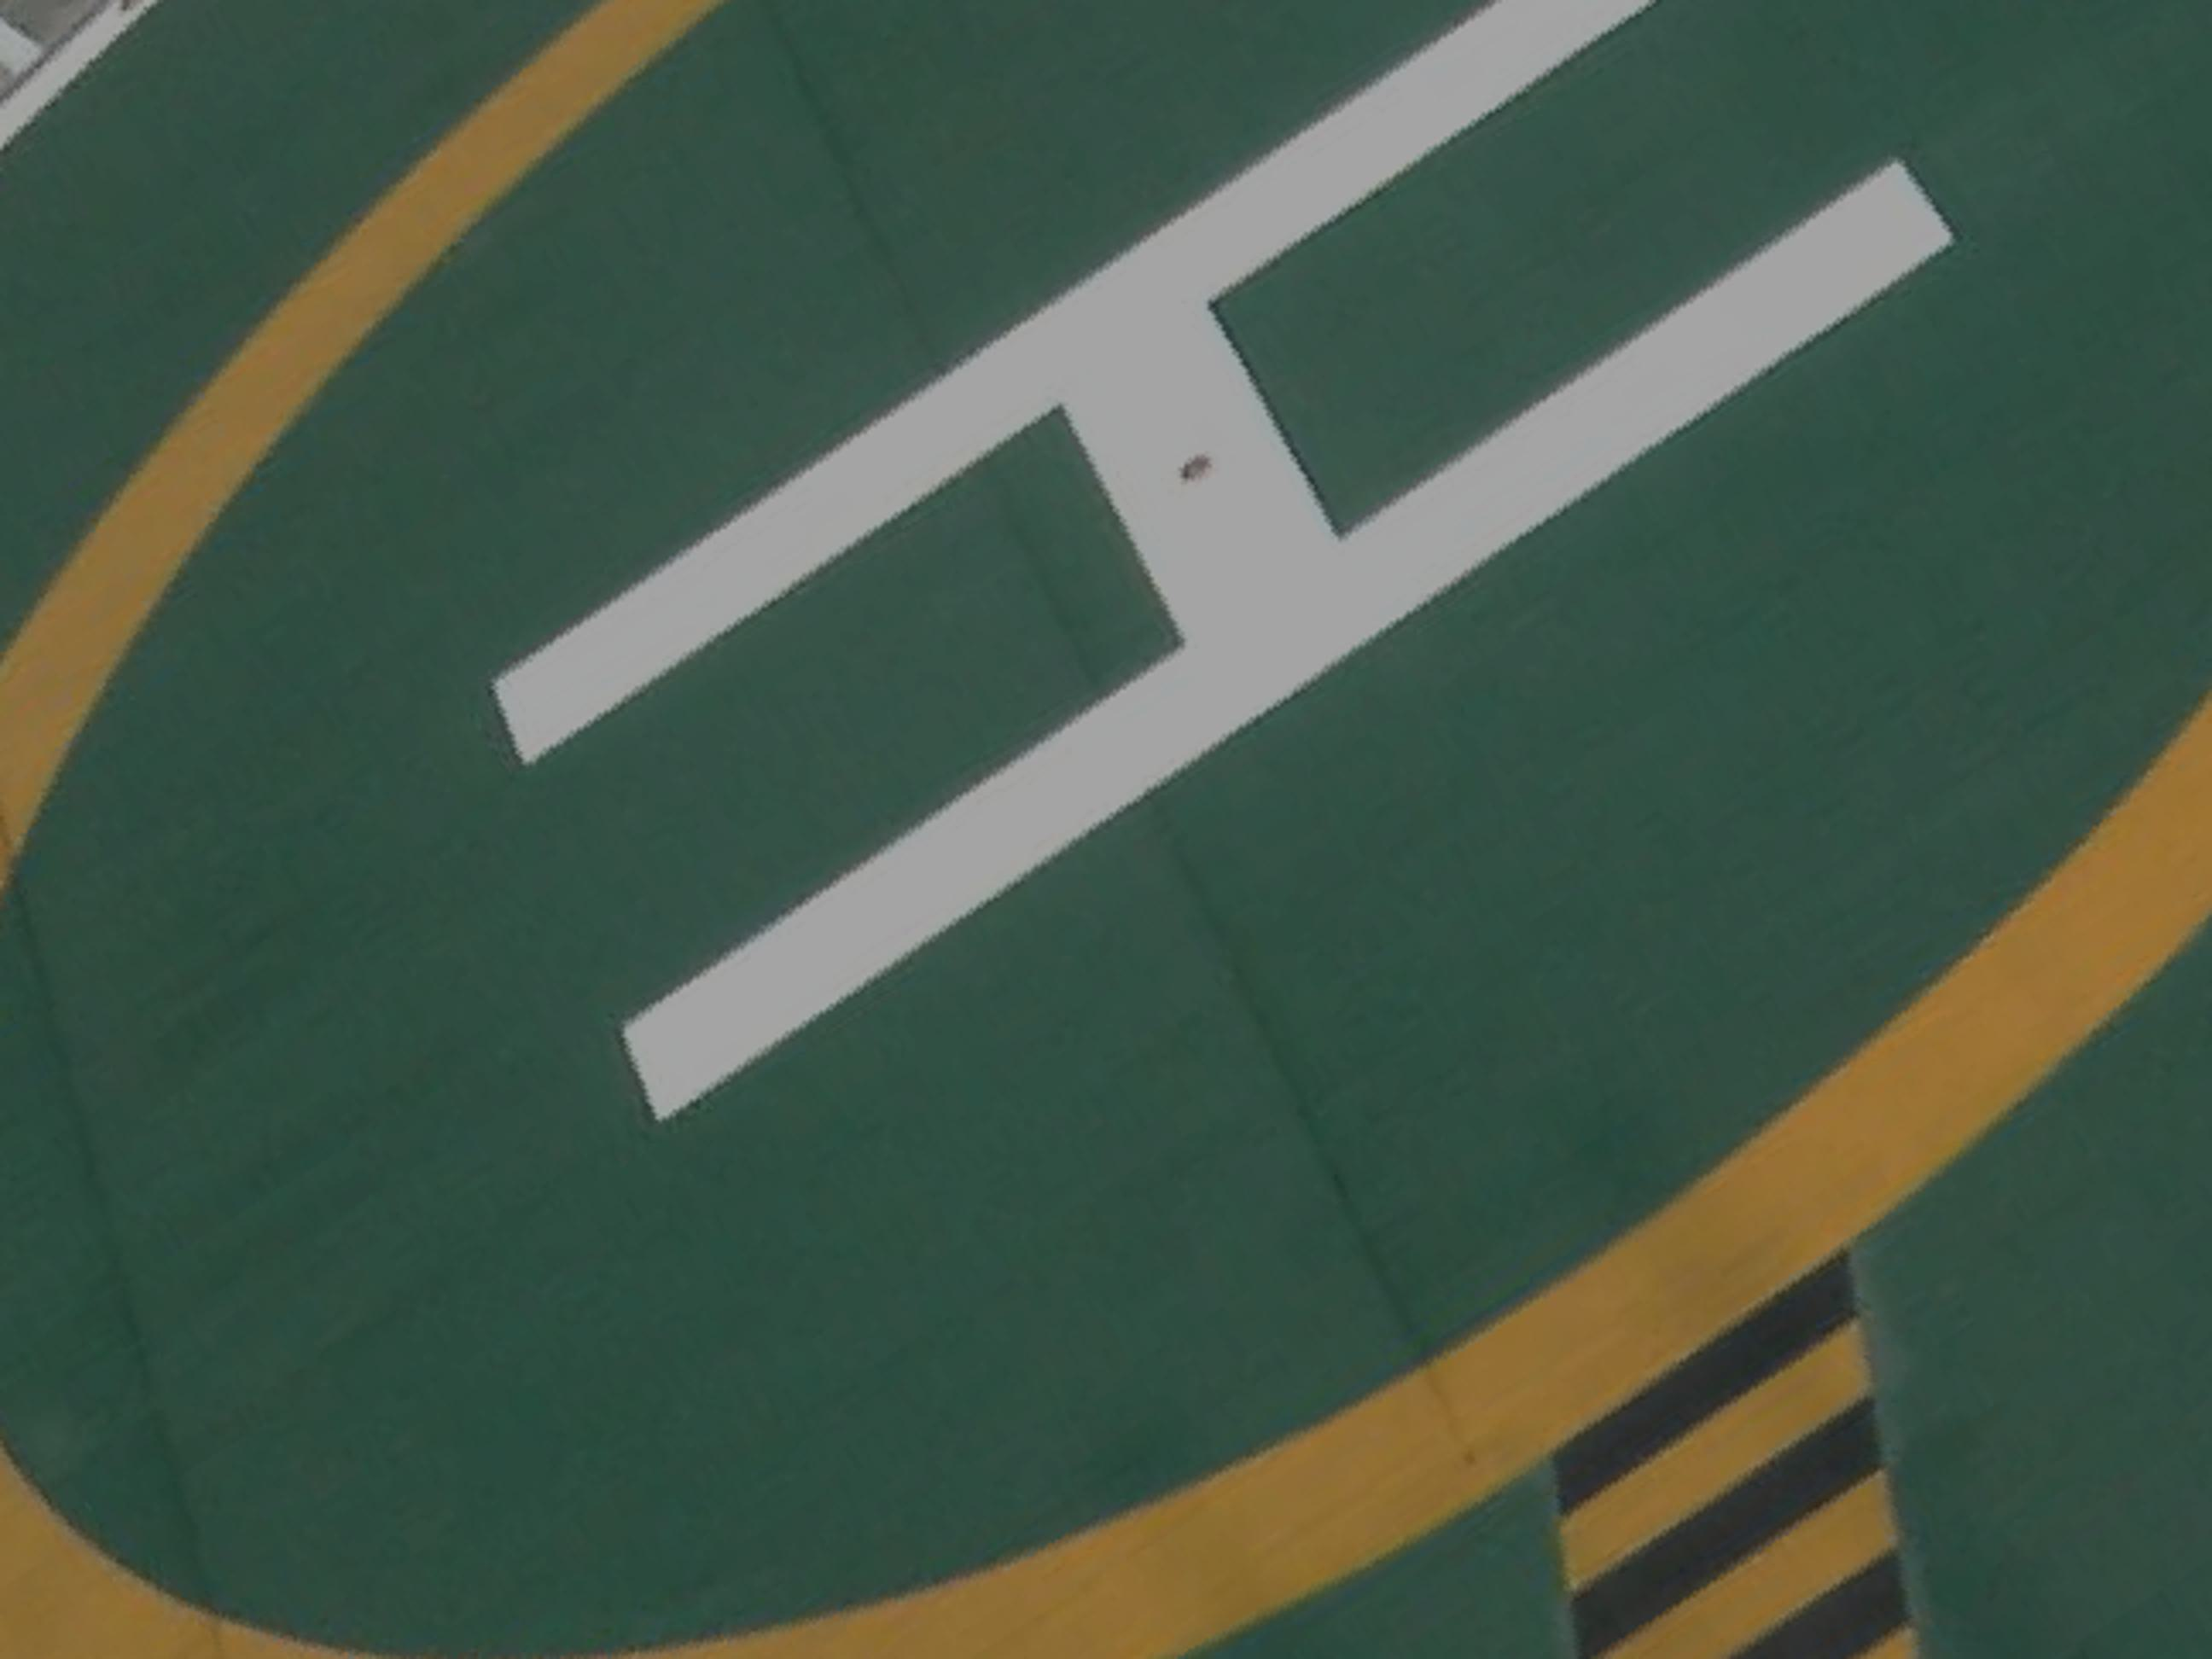Apron: (3, 9, 2212, 1659)
